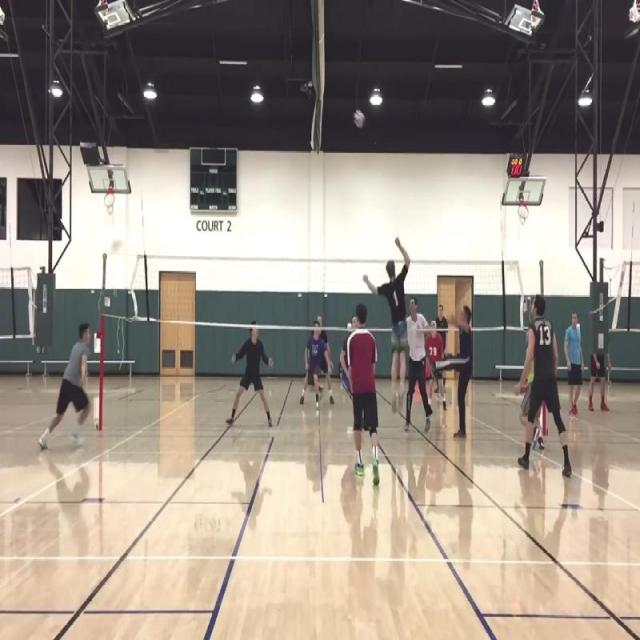volleyball: (354, 110, 365, 127)
